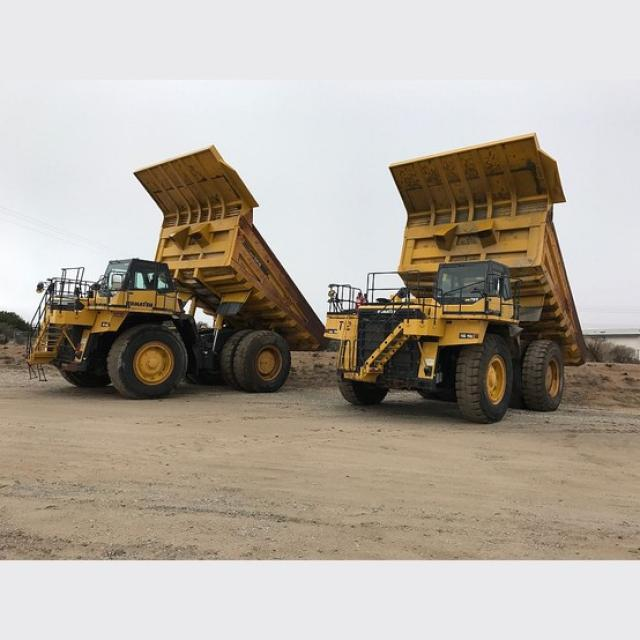dump_truck: (332, 127, 596, 428), (33, 141, 327, 403)
